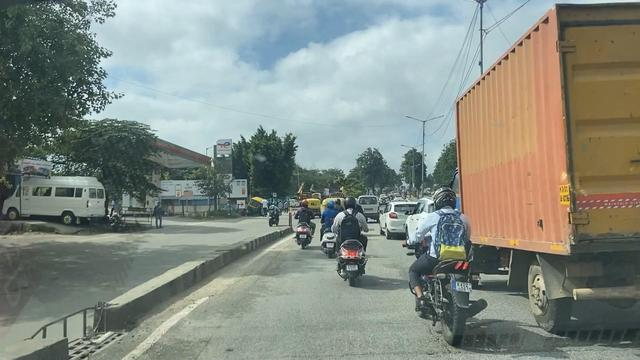LMV: (422, 191, 476, 342), (333, 202, 368, 270), (298, 200, 313, 243)
RoadDamages: (59, 299, 169, 356)
